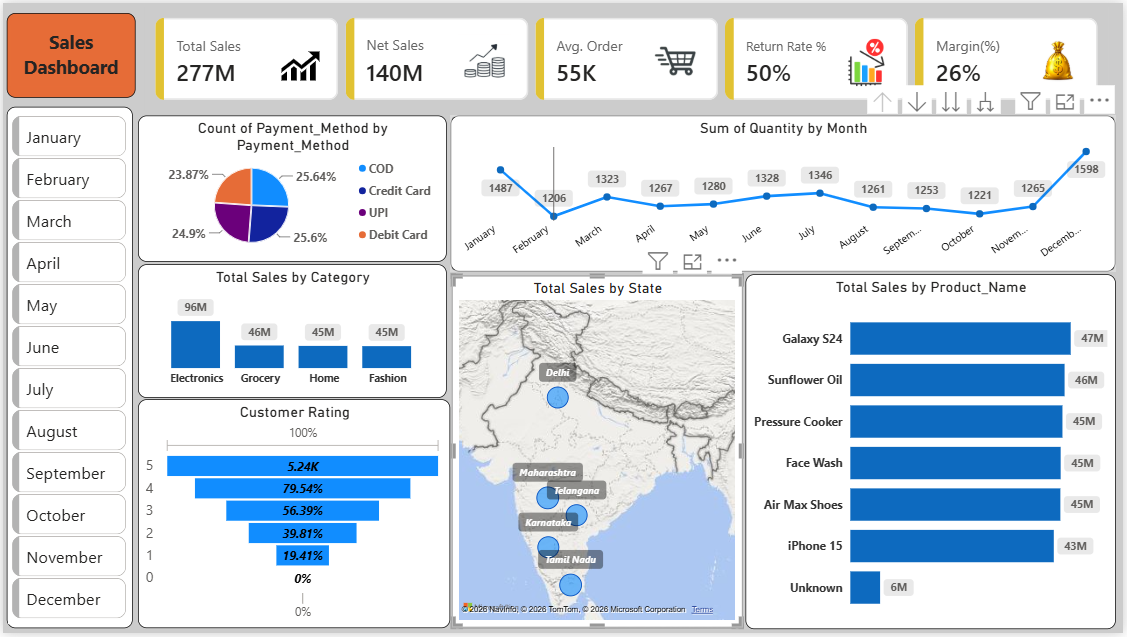

This screenshot's page, from the dashboard's own definition file:
{"tool":"powerbi","page":{"name":"Page 1","canvas":[1280,720],"ordinal":0},"visuals":[{"type":"shape","box":[4.3,11.4,147.1,97.1],"z":0},{"type":"textbox","box":[17.1,24.3,121.4,71.4],"z":1000},{"type":"shape","box":[4.3,118.6,144.3,595.7],"z":2000},{"type":"advancedSlicerVisual","fields":{"Values":["Amazon_Flipkart_Ecommerce_Sales_Messy_Dataset_5250.Order_Date.Variation.Date Hierarchy.Month"]},"box":[5.7,124.3,140,585.7],"z":3000},{"type":"cardVisual","fields":{"Data":["Sales_Data.Total Sales","Sales_Data.Net Sales","Sales_Data.Average Order Value","Sales_Data.Return Rate %","Sales_Data.Profit Margin %"]},"box":[157.1,0,1112.9,128.6],"z":4000},{"type":"map","fields":{"Category":["Sales_Data.State"],"Size":["Sales_Data.Total Sales"]},"box":[512.9,311.4,332.9,402.9],"z":5000},{"type":"lineChart","fields":{"Y":["Sum(Sales_Data.Quantity)"],"Category":["Sales_Data.Order_Date.Variation.Date Hierarchy.Month","Sales_Data.Order_Date.Variation.Date Hierarchy.Day"]},"box":[511.4,128.6,760,178.6],"z":6000},{"type":"clusteredColumnChart","fields":{"Category":["Sales_Data.Category"],"Y":["Sales_Data.Total Sales"]},"box":[154.3,298.6,352.9,152.9],"z":7000},{"type":"clusteredBarChart","fields":{"Category":["Sales_Data.Product_Name"],"Y":["Sales_Data.Total Sales"]},"box":[848.6,310,422.9,405.7],"z":8000},{"type":"pieChart","fields":{"Y":["CountNonNull(Sales_Data.Payment_Method)"],"Category":["Sales_Data.Payment_Method"]},"box":[154.3,128.6,352.9,167.1],"z":9000},{"type":"funnel","title":"Customer Rating","fields":{"Category":["Sales_Data.Customer_Rating"],"Y":["Sum(Sales_Data.Customer_Rating)"]},"box":[154.3,452.9,357.1,261.4],"z":10000}]}

Visuals, with their boxes in screenshot pixels (x1, y1, x2, y2), scaled from the page's 1280x720 canvas onto the 1127x637 screenshot:
shape: [4,10,133,96]
textbox: [15,21,122,85]
shape: [4,105,131,632]
advancedSlicerVisual - Amazon_Flipkart_Ecommerce_Sales_Messy_Dataset_5250.Order_Date.Variation.Date Hierarchy.Month: [5,110,128,628]
cardVisual - Sales_Data.Total Sales x Sales_Data.Net Sales: [138,0,1118,114]
map - Sales_Data.State x Sales_Data.Total Sales: [452,276,745,632]
lineChart - Sum(Sales_Data.Quantity) x Sales_Data.Order_Date.Variation.Date Hierarchy.Month: [450,114,1119,272]
clusteredColumnChart - Sales_Data.Category x Sales_Data.Total Sales: [136,264,447,399]
clusteredBarChart - Sales_Data.Product_Name x Sales_Data.Total Sales: [747,274,1120,633]
pieChart - CountNonNull(Sales_Data.Payment_Method) x Sales_Data.Payment_Method: [136,114,447,262]
"Customer Rating" funnel: [136,401,450,632]
